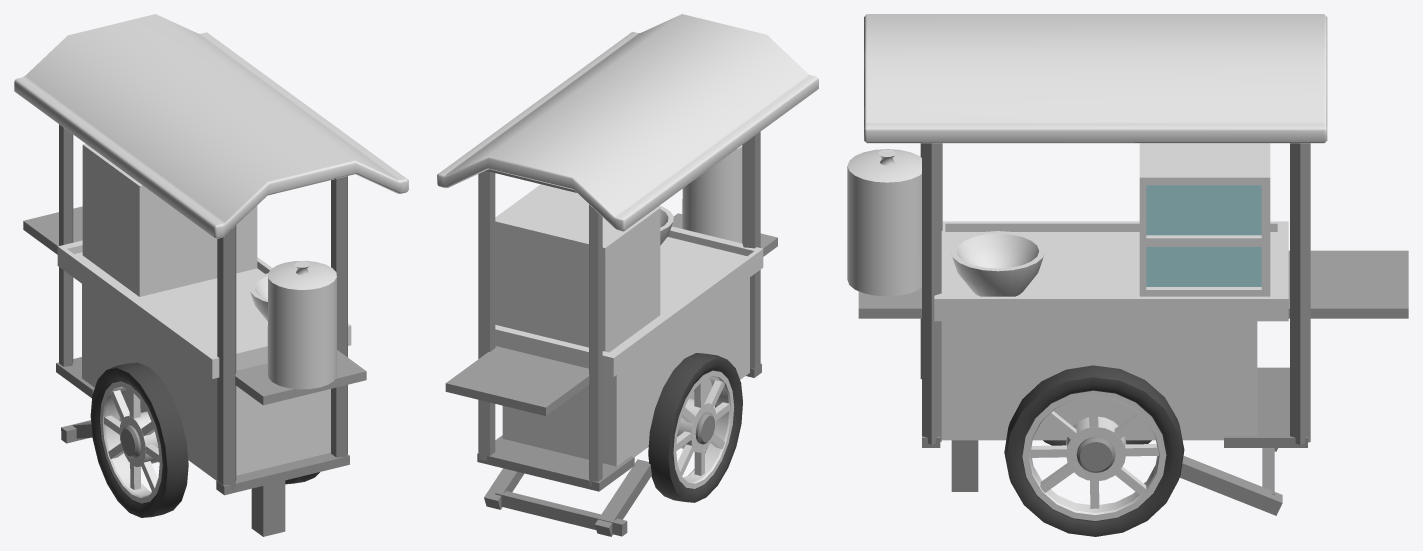
Rendered from SM_StreetFood.fbx.
3 renders of one model, left to right at view 1: azimuth 30°, elevation 25°; view 2: azimuth 150°, elevation 25°; view 3: azimuth 270°, elevation 25°, orthographic. The views are drawn at different scales.
Visible parts, largest first — view 1: streetfood_V2_pCube539; view 2: streetfood_V2_pCube539; view 3: streetfood_V2_pCube539.
Part boxes in pixels (<box>): streetfood_V2_pCube539: <box>14,14,408,536</box>; streetfood_V2_pCube539: <box>437,14,818,536</box>; streetfood_V2_pCube539: <box>847,14,1408,536</box>.
Bounding box in the file's own units: 1.68 × 3.28 × 3.66.
